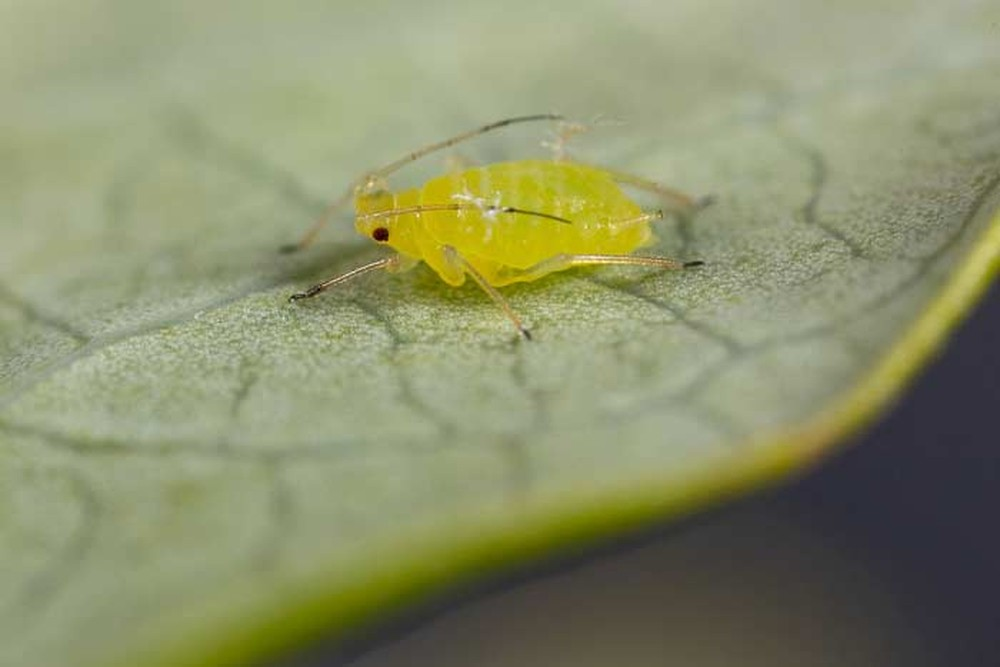Pulgon: (277, 105, 731, 347)
